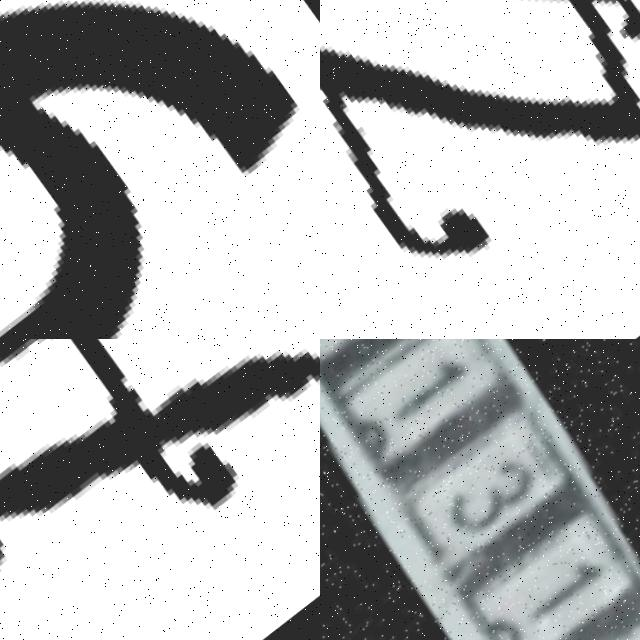1: (516, 540, 636, 640), (377, 340, 487, 439)
3: (440, 437, 562, 549)
6: (0, 0, 320, 339)
H: (0, 339, 320, 628)
Z: (320, 0, 640, 339)
